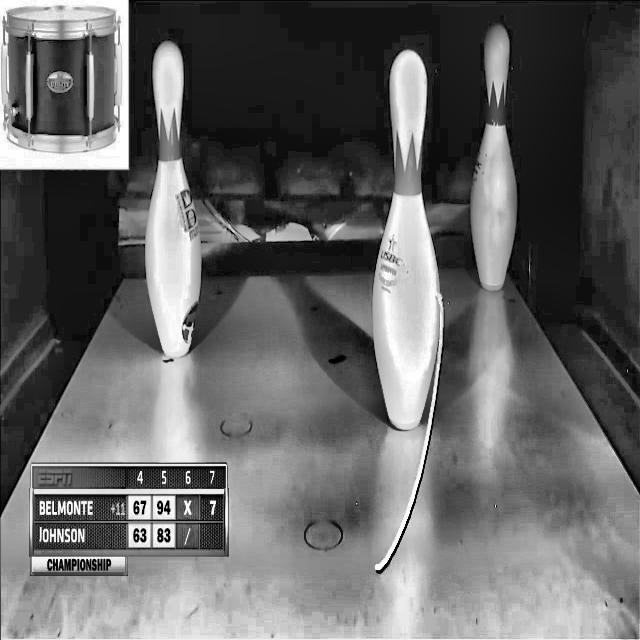bowling-pins: (374, 48, 440, 429), (145, 40, 201, 358), (472, 23, 518, 289)
